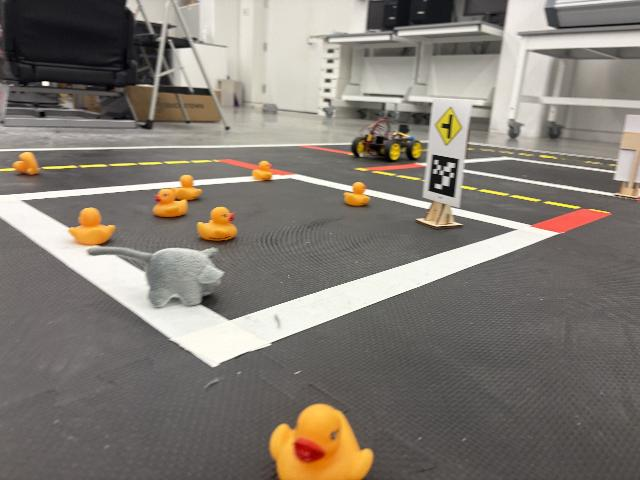duck: (267, 401, 374, 480), (67, 204, 115, 249), (196, 204, 238, 241), (152, 185, 188, 221), (170, 175, 205, 200), (11, 149, 41, 176), (343, 181, 371, 208), (251, 160, 273, 181)
l_intersection: (419, 97, 472, 229)
mouse: (85, 246, 224, 311)
redline: (531, 203, 610, 233), (224, 154, 289, 179), (307, 143, 351, 159), (368, 164, 427, 171)
whiteline: (214, 224, 523, 396), (29, 184, 312, 360), (7, 145, 310, 150), (372, 187, 418, 210), (297, 173, 343, 191)
yellowline: (363, 163, 595, 220), (463, 182, 612, 215), (468, 143, 619, 170), (0, 156, 222, 172), (375, 170, 421, 184)
